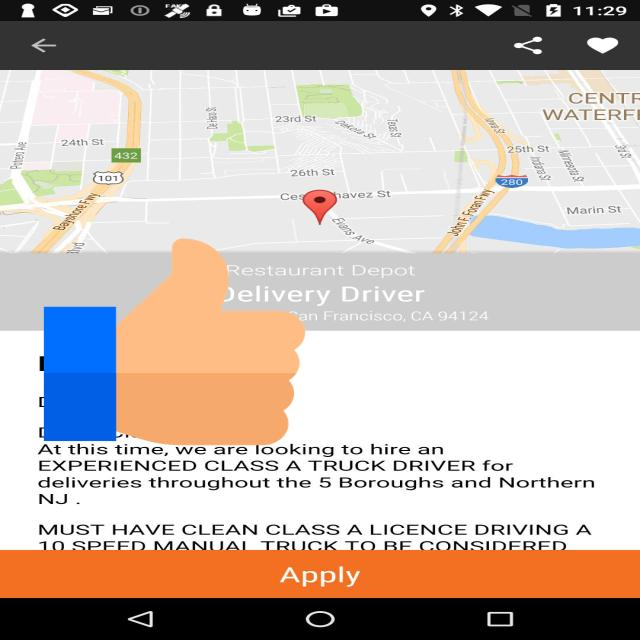privacy zuckering: (44, 234, 305, 451)
